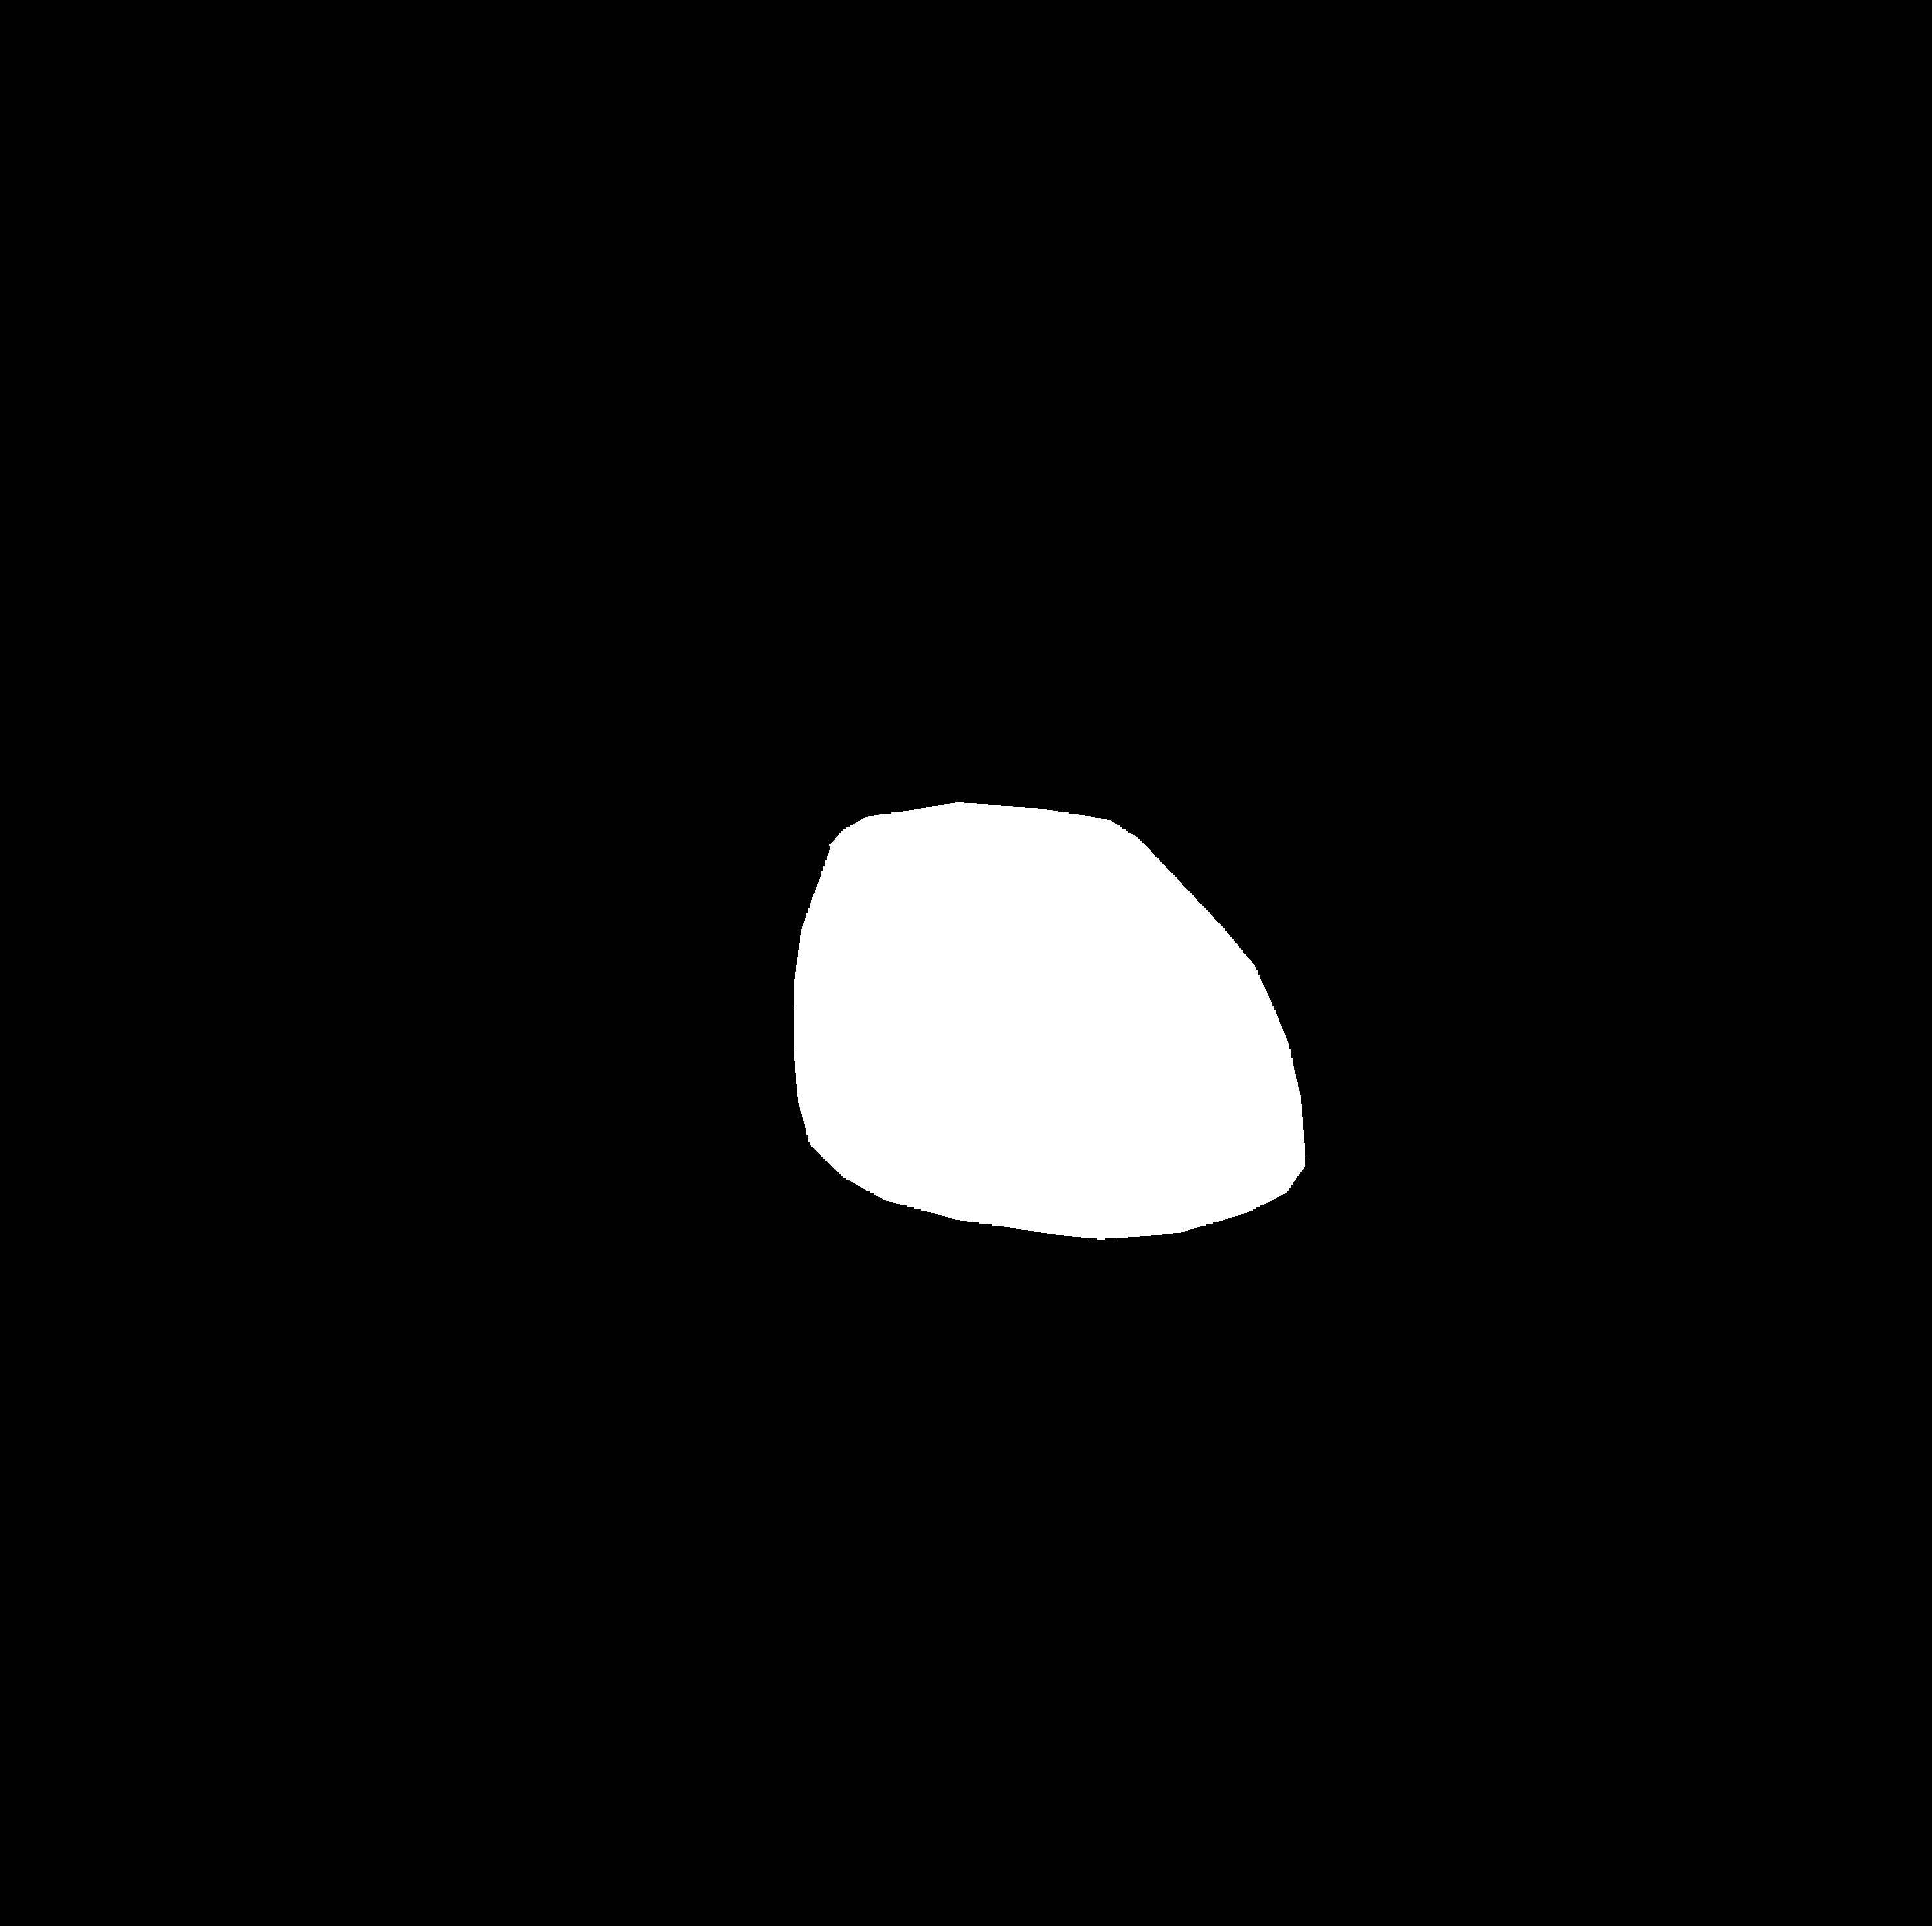heart: (793, 827, 1303, 1351)
left_lung: (425, 226, 906, 1295)
right_lung: (1028, 203, 1509, 1337)
